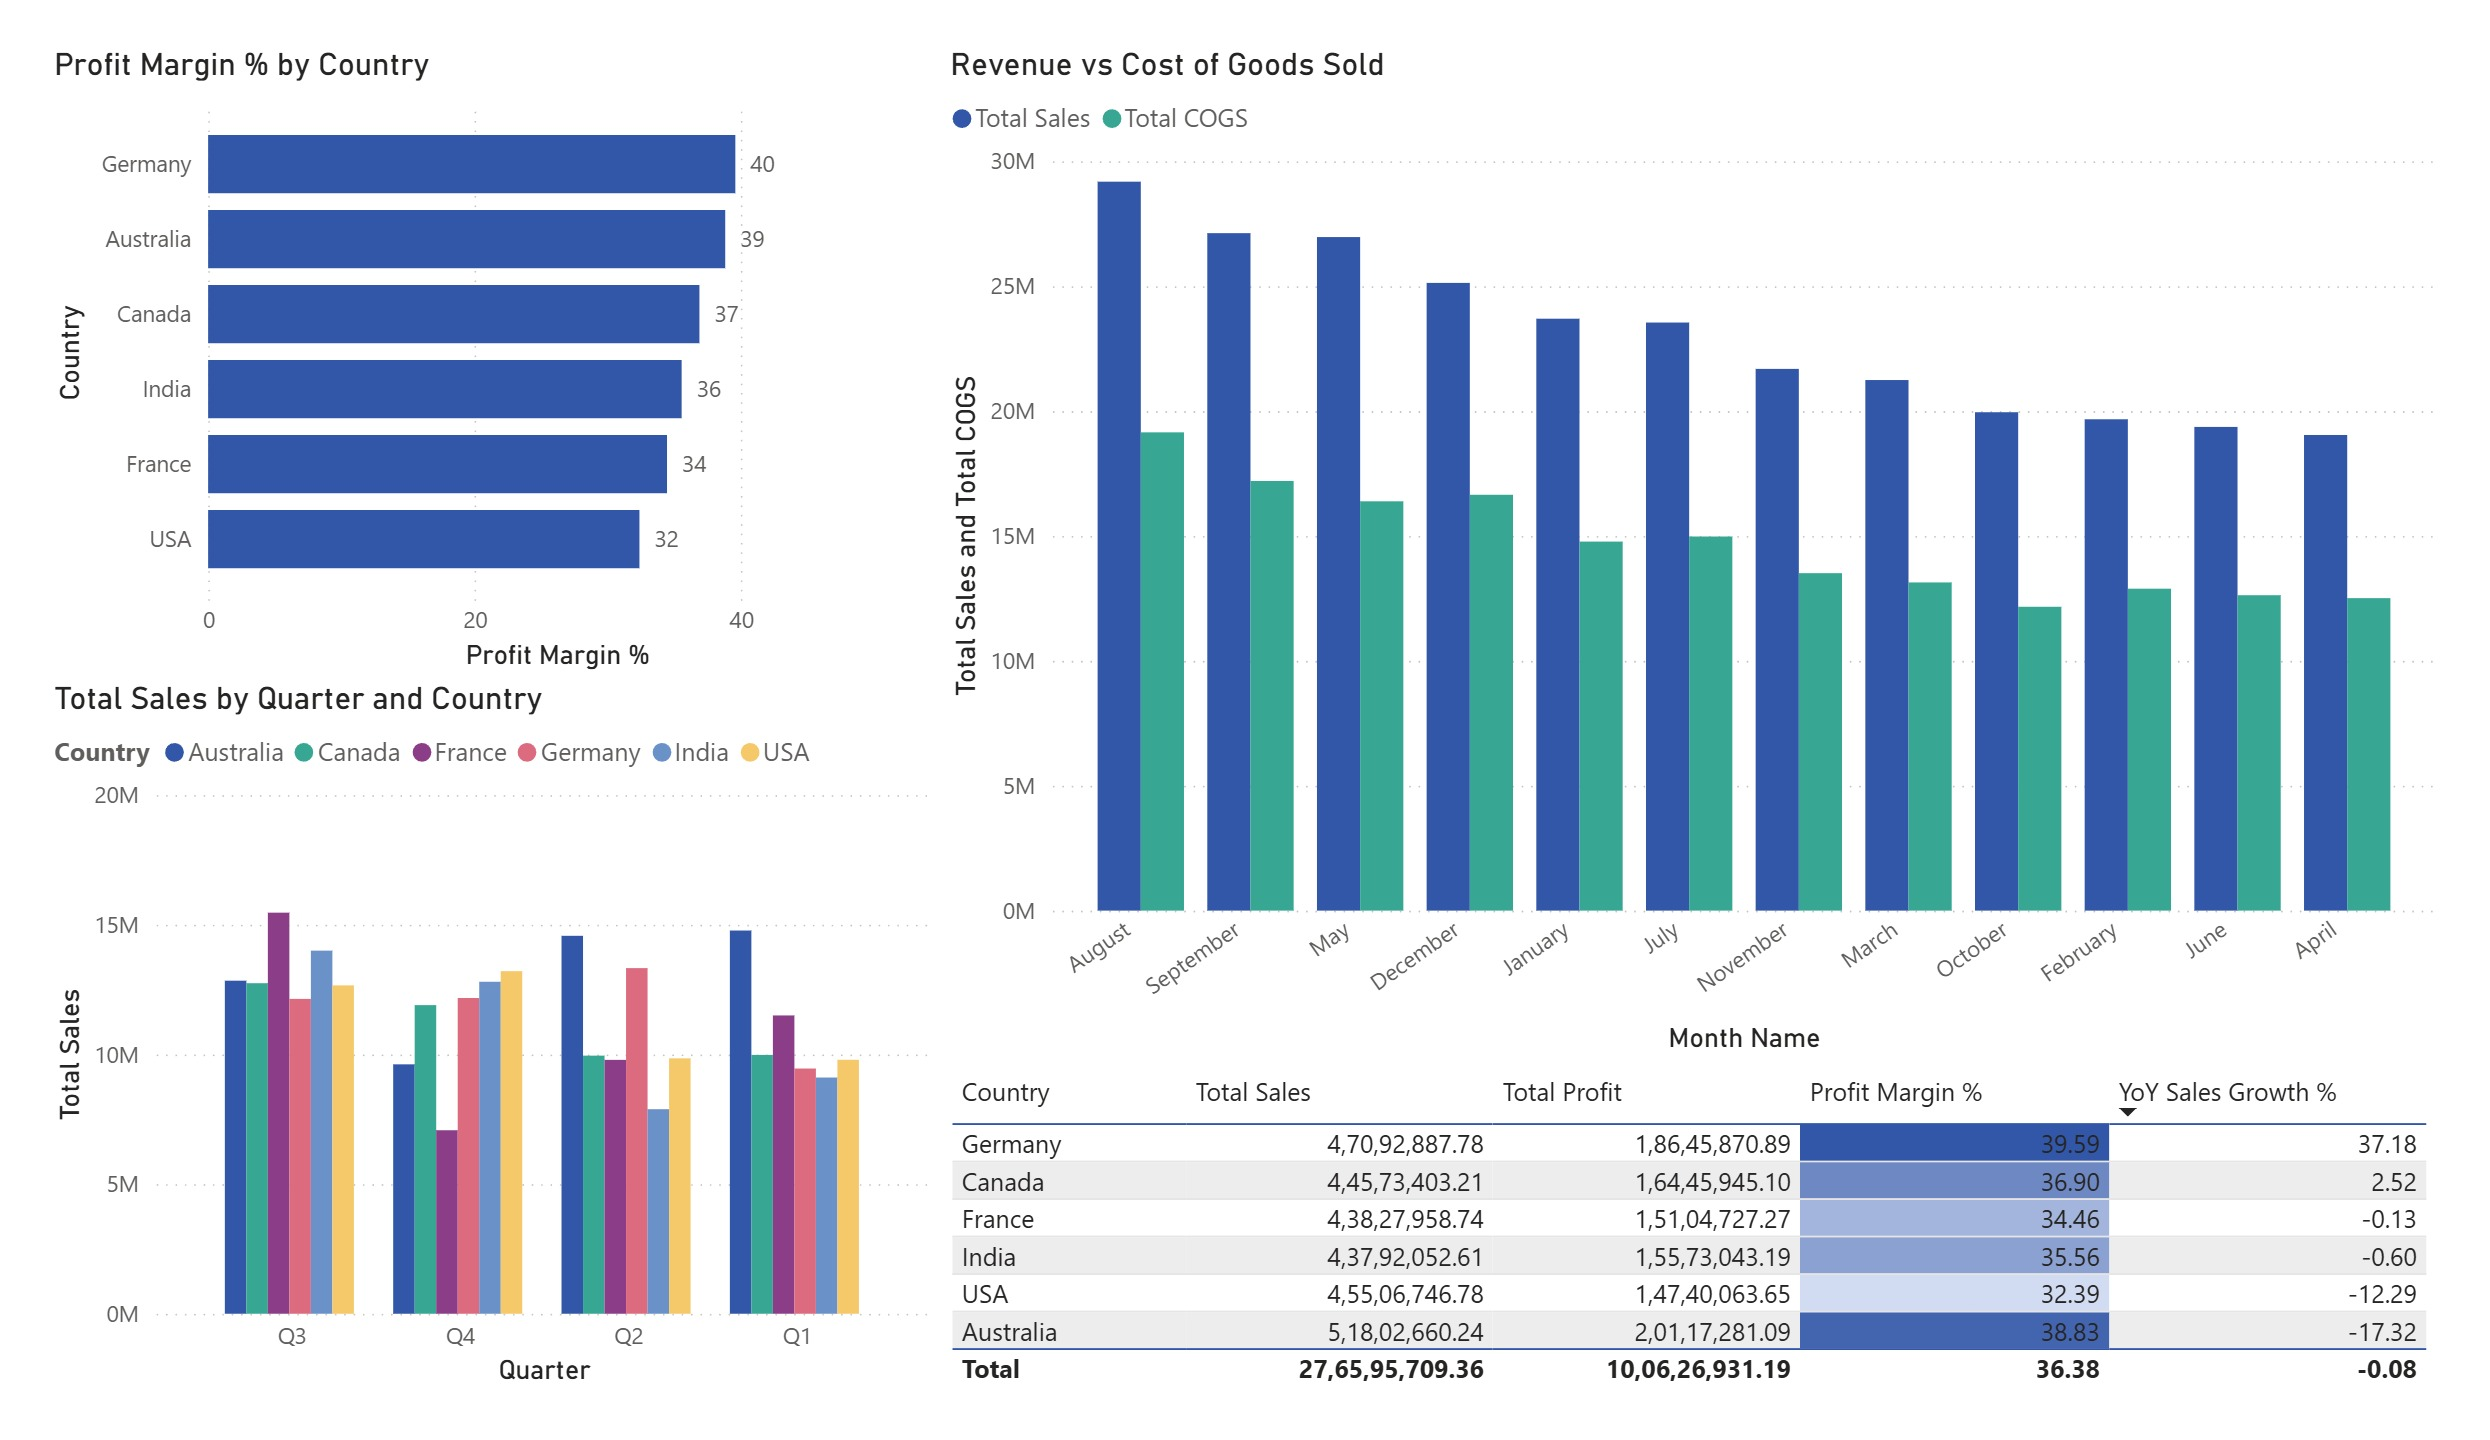

What the dashboard file says about the page in this screenshot:
{"tool":"powerbi","page":{"name":"Regional Analysis","canvas":[1280,720],"ordinal":1},"visuals":[{"type":"clusteredColumnChart","fields":{"Category":["Financial_Sample_Cleaned.Quarter"],"Y":["Financial_Sample_Cleaned.Total Sales"],"Series":["Financial_Sample_Cleaned.Country"]},"box":[0,337.6,478.2,382.4],"z":0},{"type":"barChart","fields":{"Y":["Financial_Sample_Cleaned.Profit Margin %"],"Category":["Financial_Sample_Cleaned.Country"]},"box":[0,0,471.9,337.6],"z":1000},{"type":"lineClusteredColumnComboChart","title":"Revenue vs Cost of Goods Sold","fields":{"Category":["Financial_Sample_Cleaned.Month Name"],"Y":["Financial_Sample_Cleaned.Total Sales","Financial_Sample_Cleaned.Total COGS"]},"box":[478.2,0,801.5,542.7],"z":2000},{"type":"tableEx","fields":{"Values":["Financial_Sample_Cleaned.Country","Financial_Sample_Cleaned.Total Sales","Financial_Sample_Cleaned.Total Profit","Financial_Sample_Cleaned.Profit Margin %","Financial_Sample_Cleaned.YoY Sales Growth %"]},"box":[478.2,542.7,801.5,177.3],"z":3000}]}

Visuals, with their boxes in screenshot pixels (x1, y1, x2, y2), scaled from the page's 1280x720 canvas onto the 2490x1440 screenshot:
clusteredColumnChart - Financial_Sample_Cleaned.Quarter x Financial_Sample_Cleaned.Total Sales: BBox(0, 675, 930, 1439)
barChart - Financial_Sample_Cleaned.Profit Margin % x Financial_Sample_Cleaned.Country: BBox(0, 0, 918, 675)
"Revenue vs Cost of Goods Sold" lineClusteredColumnComboChart: BBox(930, 0, 2489, 1085)
tableEx - Financial_Sample_Cleaned.Country x Financial_Sample_Cleaned.Total Sales: BBox(930, 1085, 2489, 1439)
